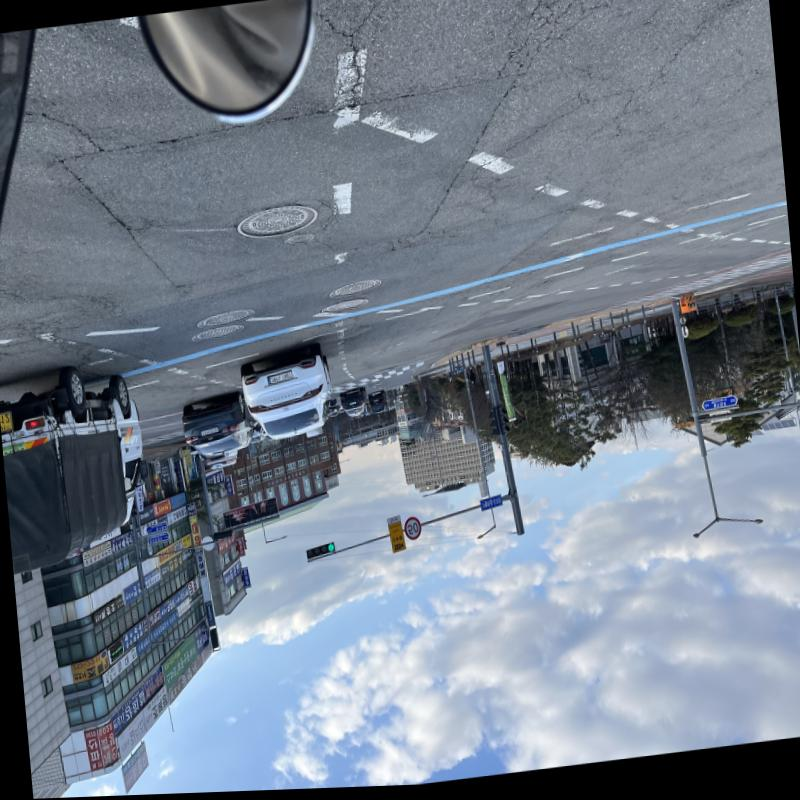green: (327, 545, 335, 555)
